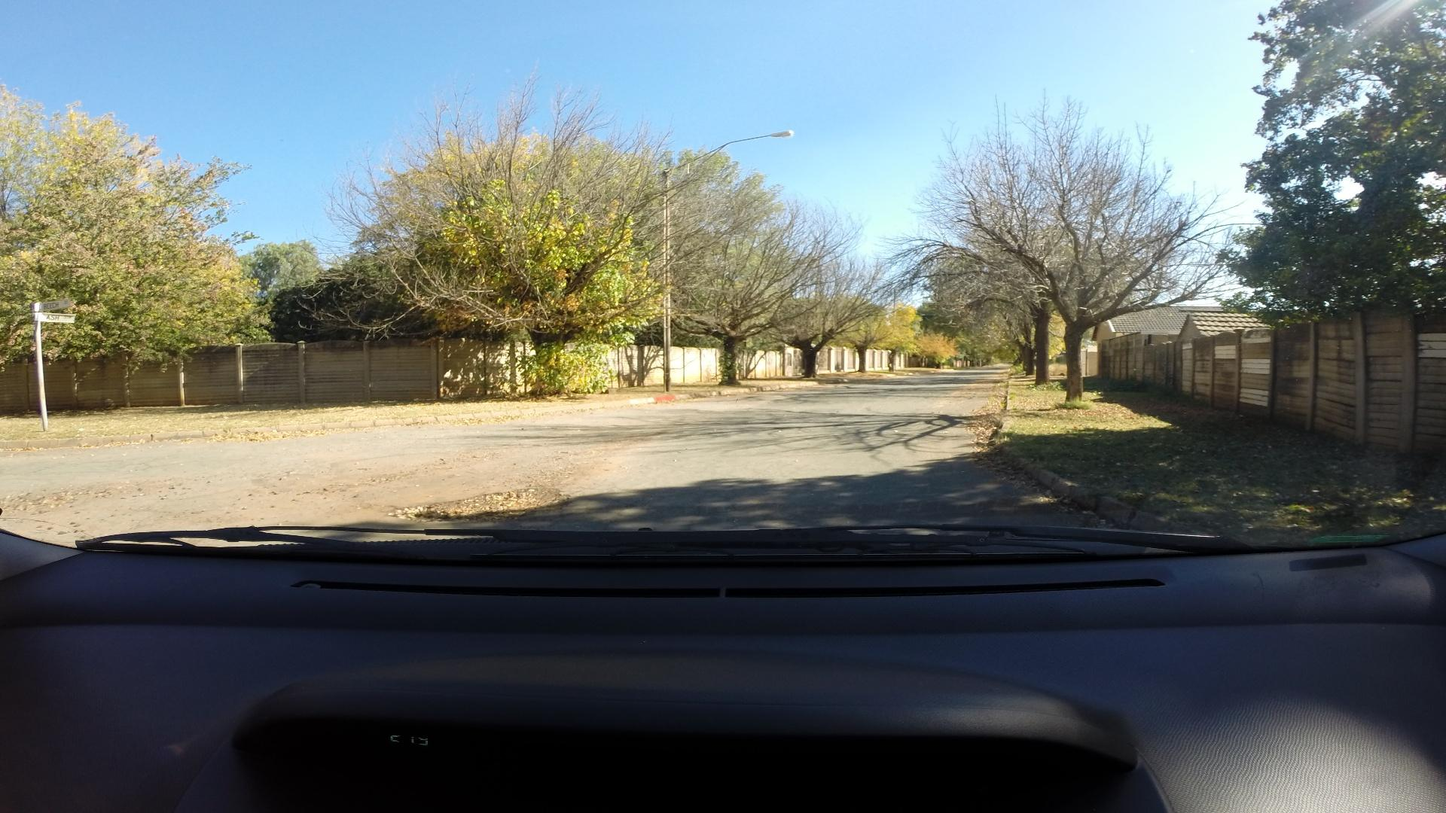pothole: (389, 484, 568, 526)
